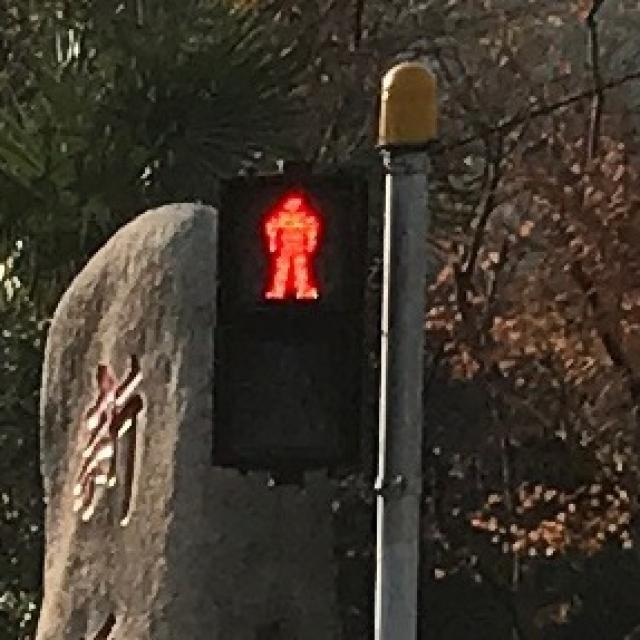red-crossing: (238, 178, 339, 314)
